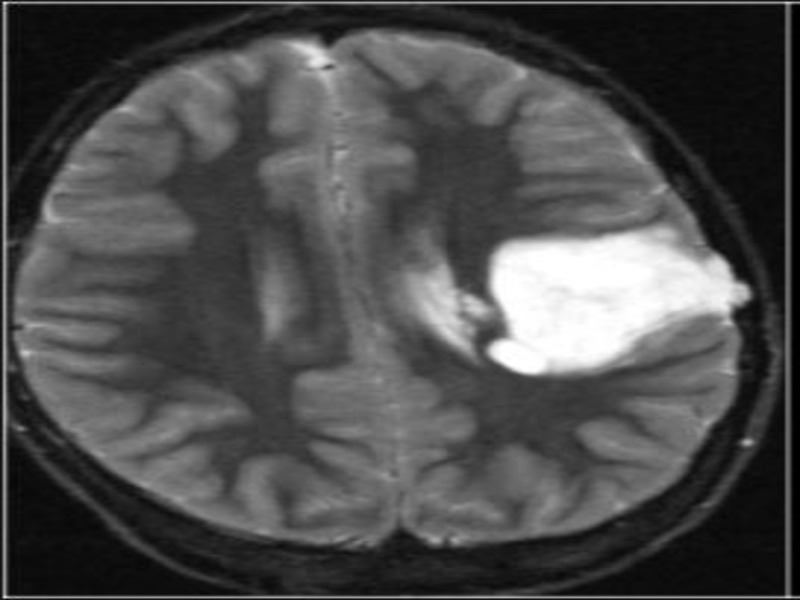tumor: (476, 214, 749, 384)
